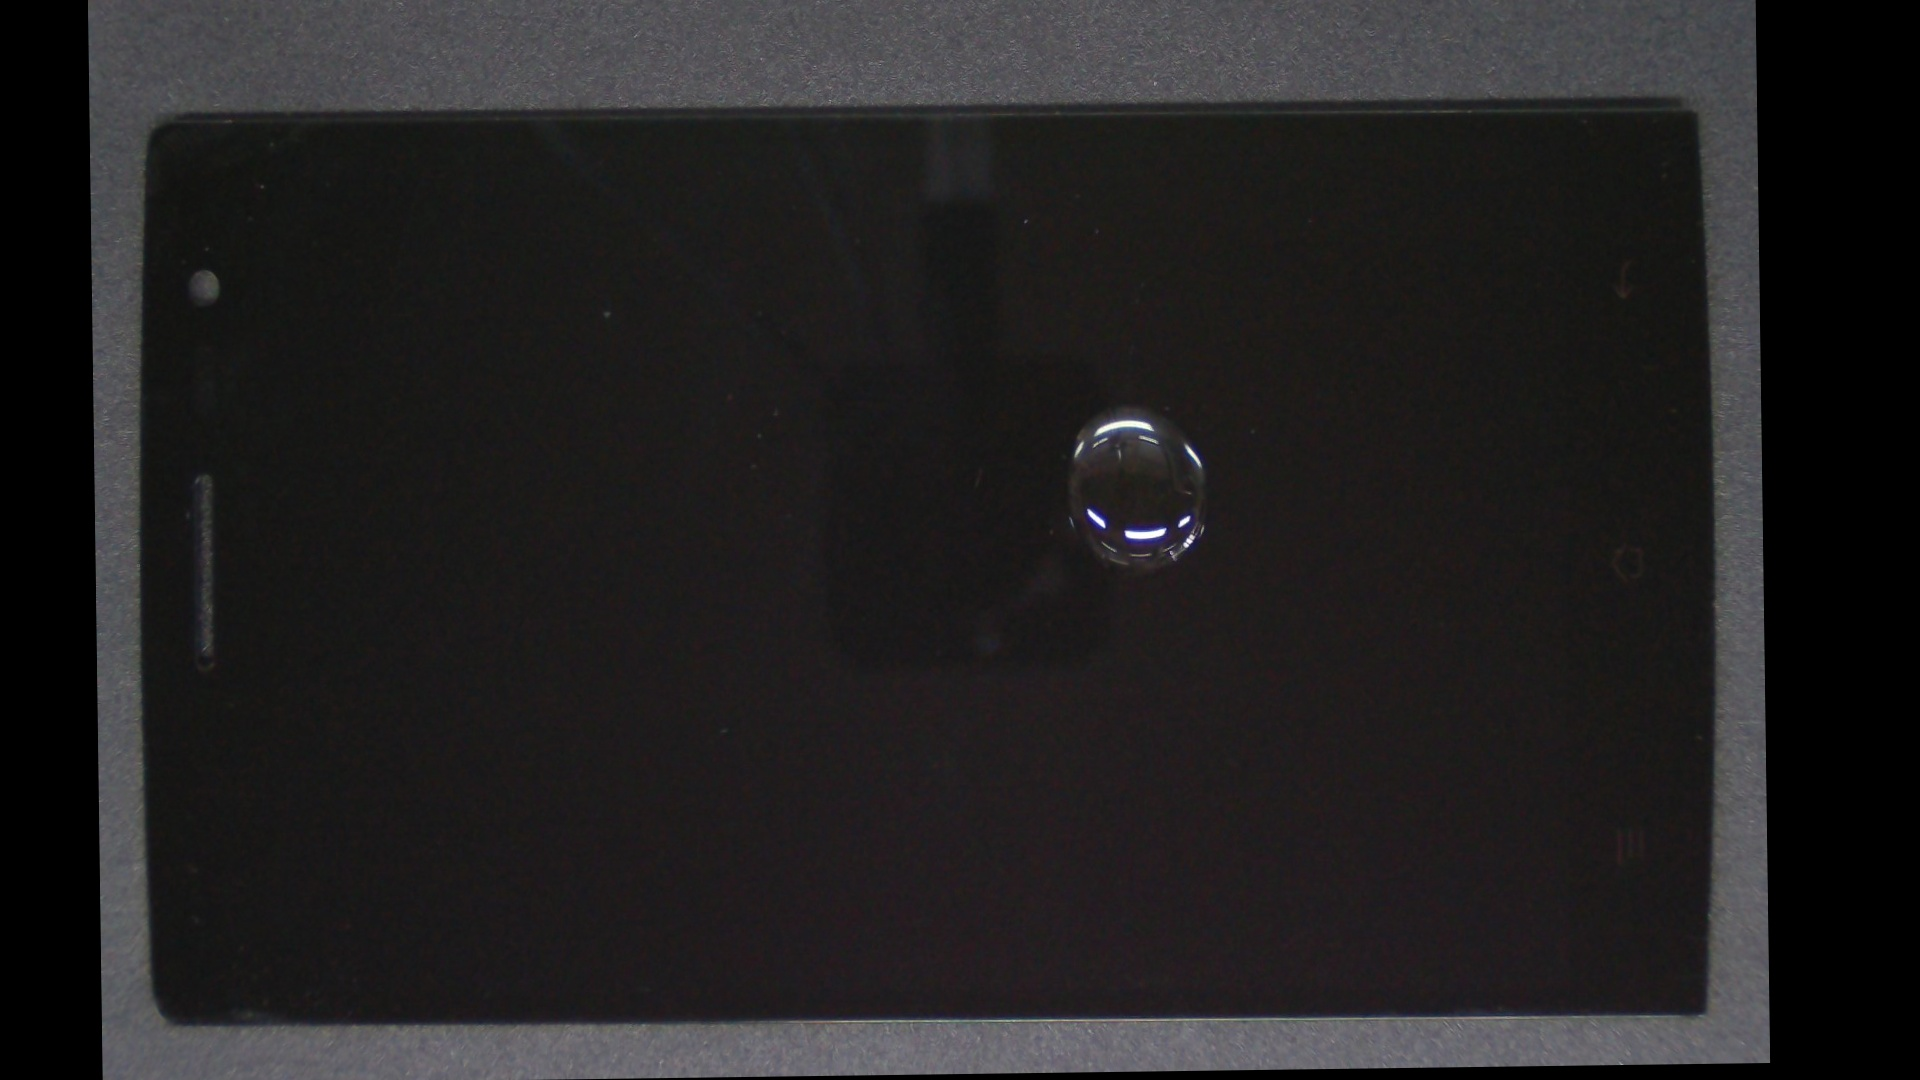oil: (604, 187, 1634, 628)
